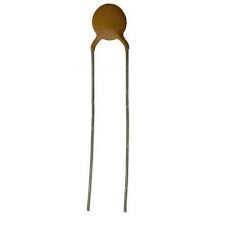ceramic capacitor: (63, 1, 167, 110)
